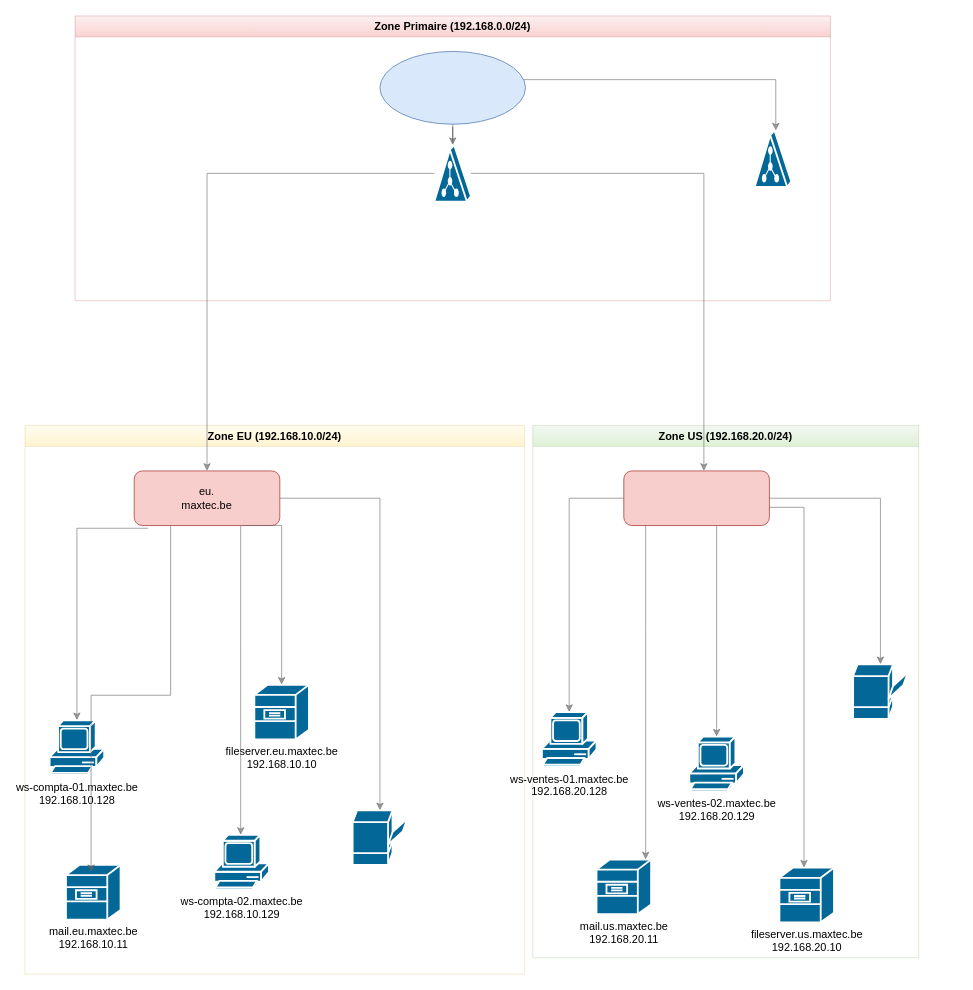
The diagram is 973 pixels wide and 990 high, and some of its shapes have lost their labels. The shapes that lost their labels are listed below. From the top down, each one's centre as x and y in pixels, then its label:
(452,87): maxtec.be (Domaine racine)
(452,173): dns1.maxtec.be 192.168.0.2
(772,158): dns2.maxtec.be 192.168.0.3
(696,498): us. maxtec.be
(880,691): printer-compta-us-01.maxtec.be 192.168.20.20
(379,837): printer-compta-eu-01.maxtec.be 192.168.10.20
